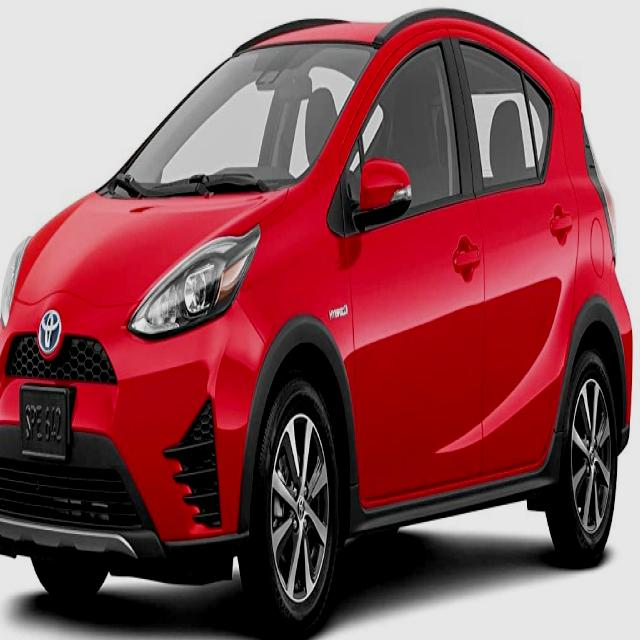red: (3, 13, 632, 625)
